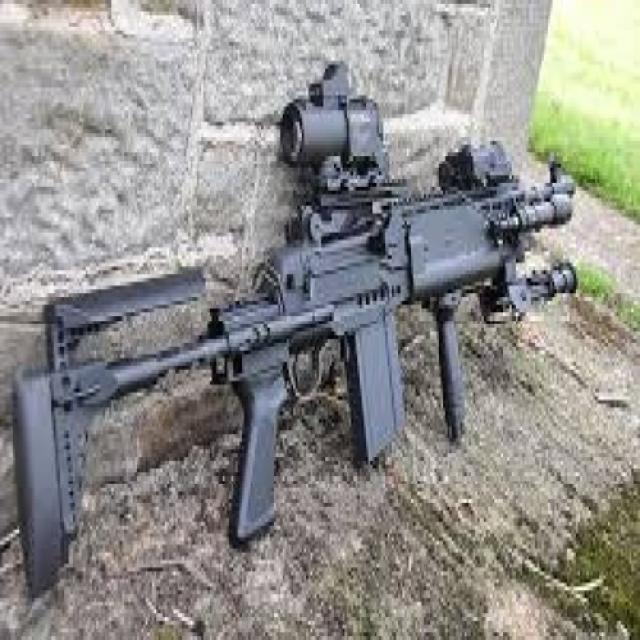Gun: (0, 55, 588, 547)
